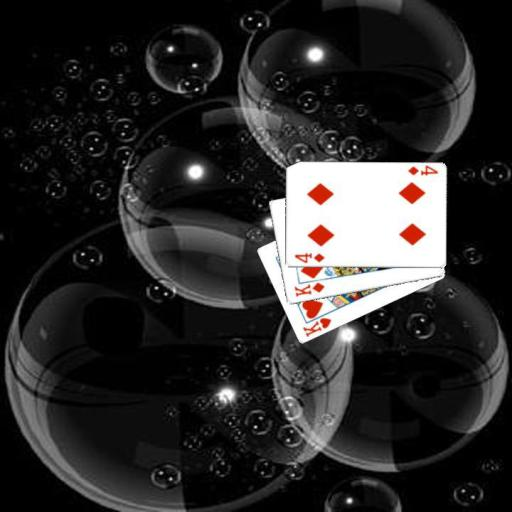4D: (291, 250, 326, 265), (405, 164, 439, 177)
KD: (291, 280, 326, 299)
KH: (299, 315, 333, 339)
